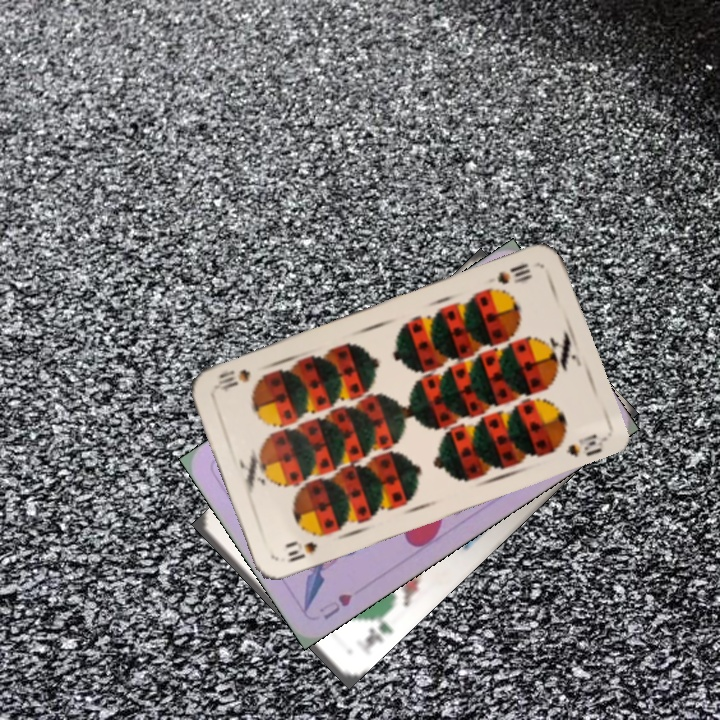GK: (360, 607, 396, 652)
HU: (315, 589, 355, 623)
S10: (493, 259, 535, 287), (283, 537, 320, 566)
